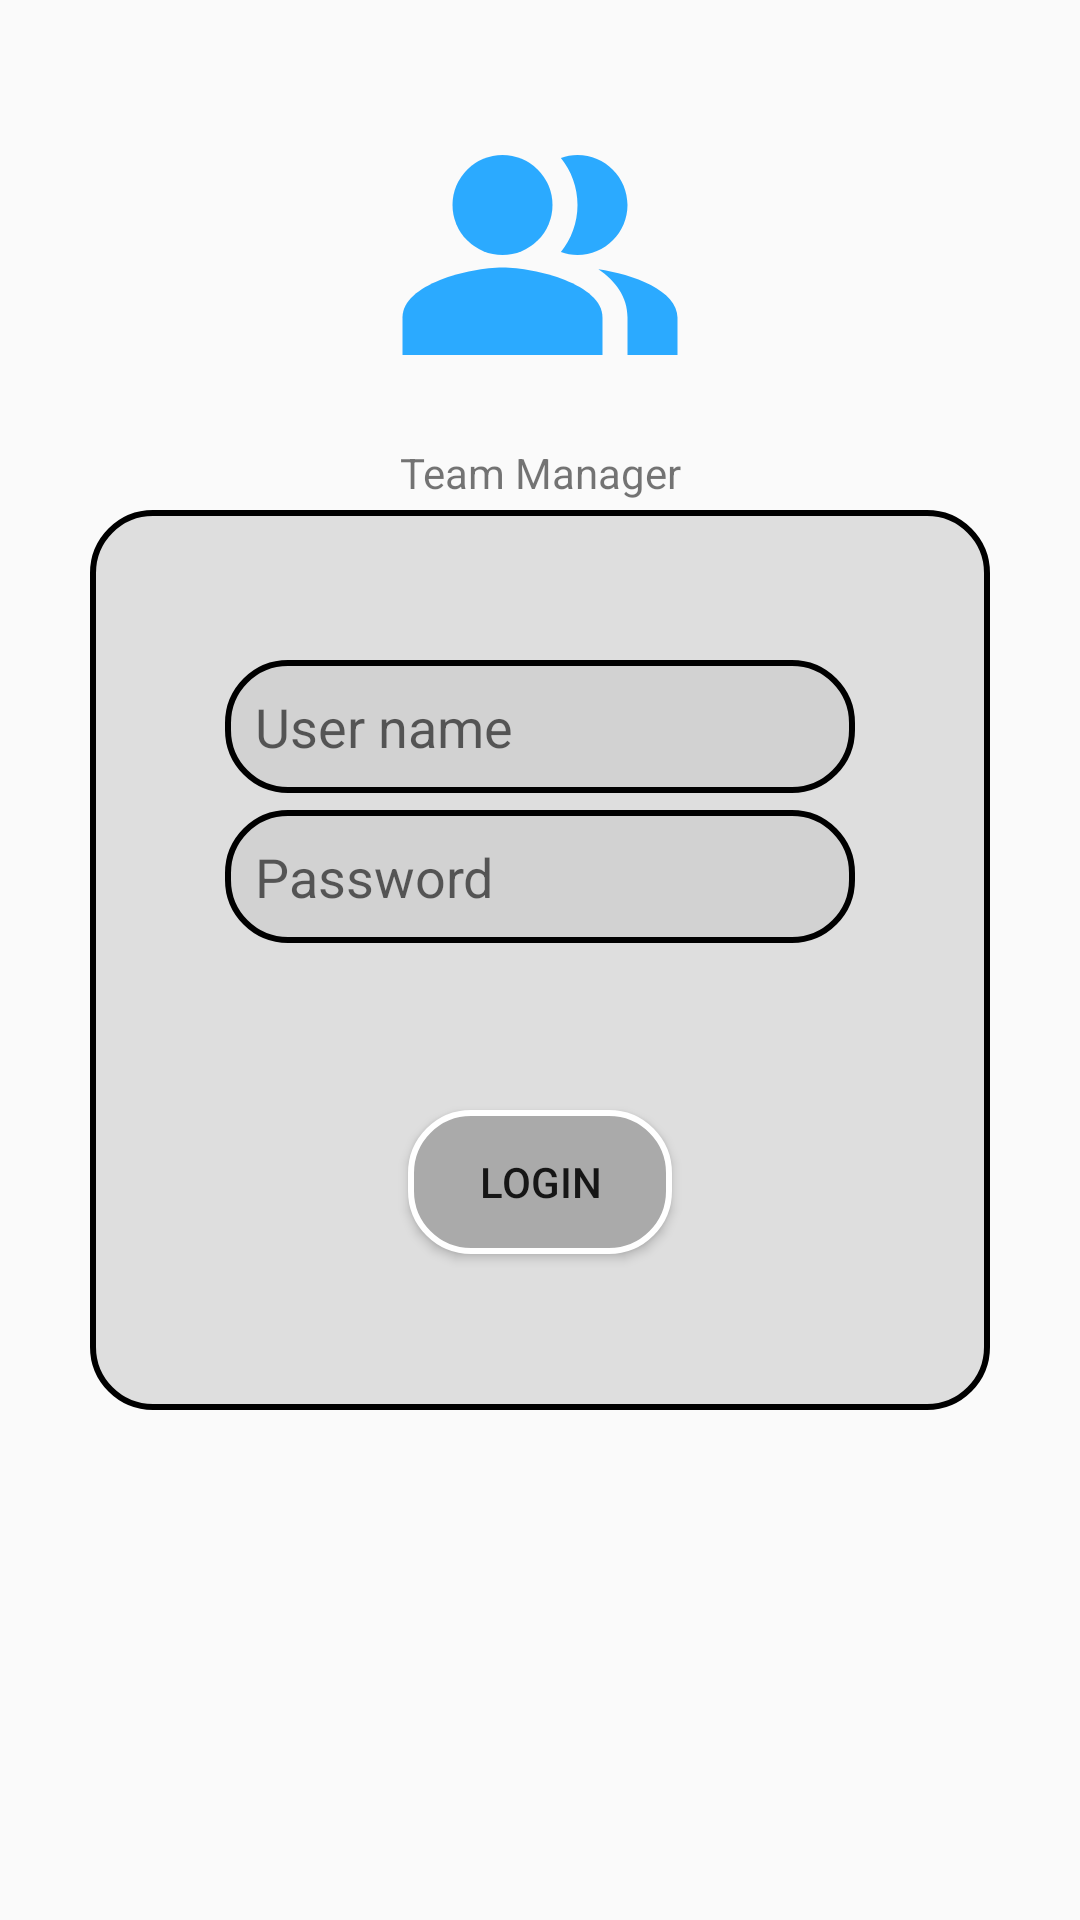

Locate icon controls on the screen. Image size 1080×1920, boxes as BBox(x1, y1, x2, y2).
people: BBox(402, 155, 678, 355)
